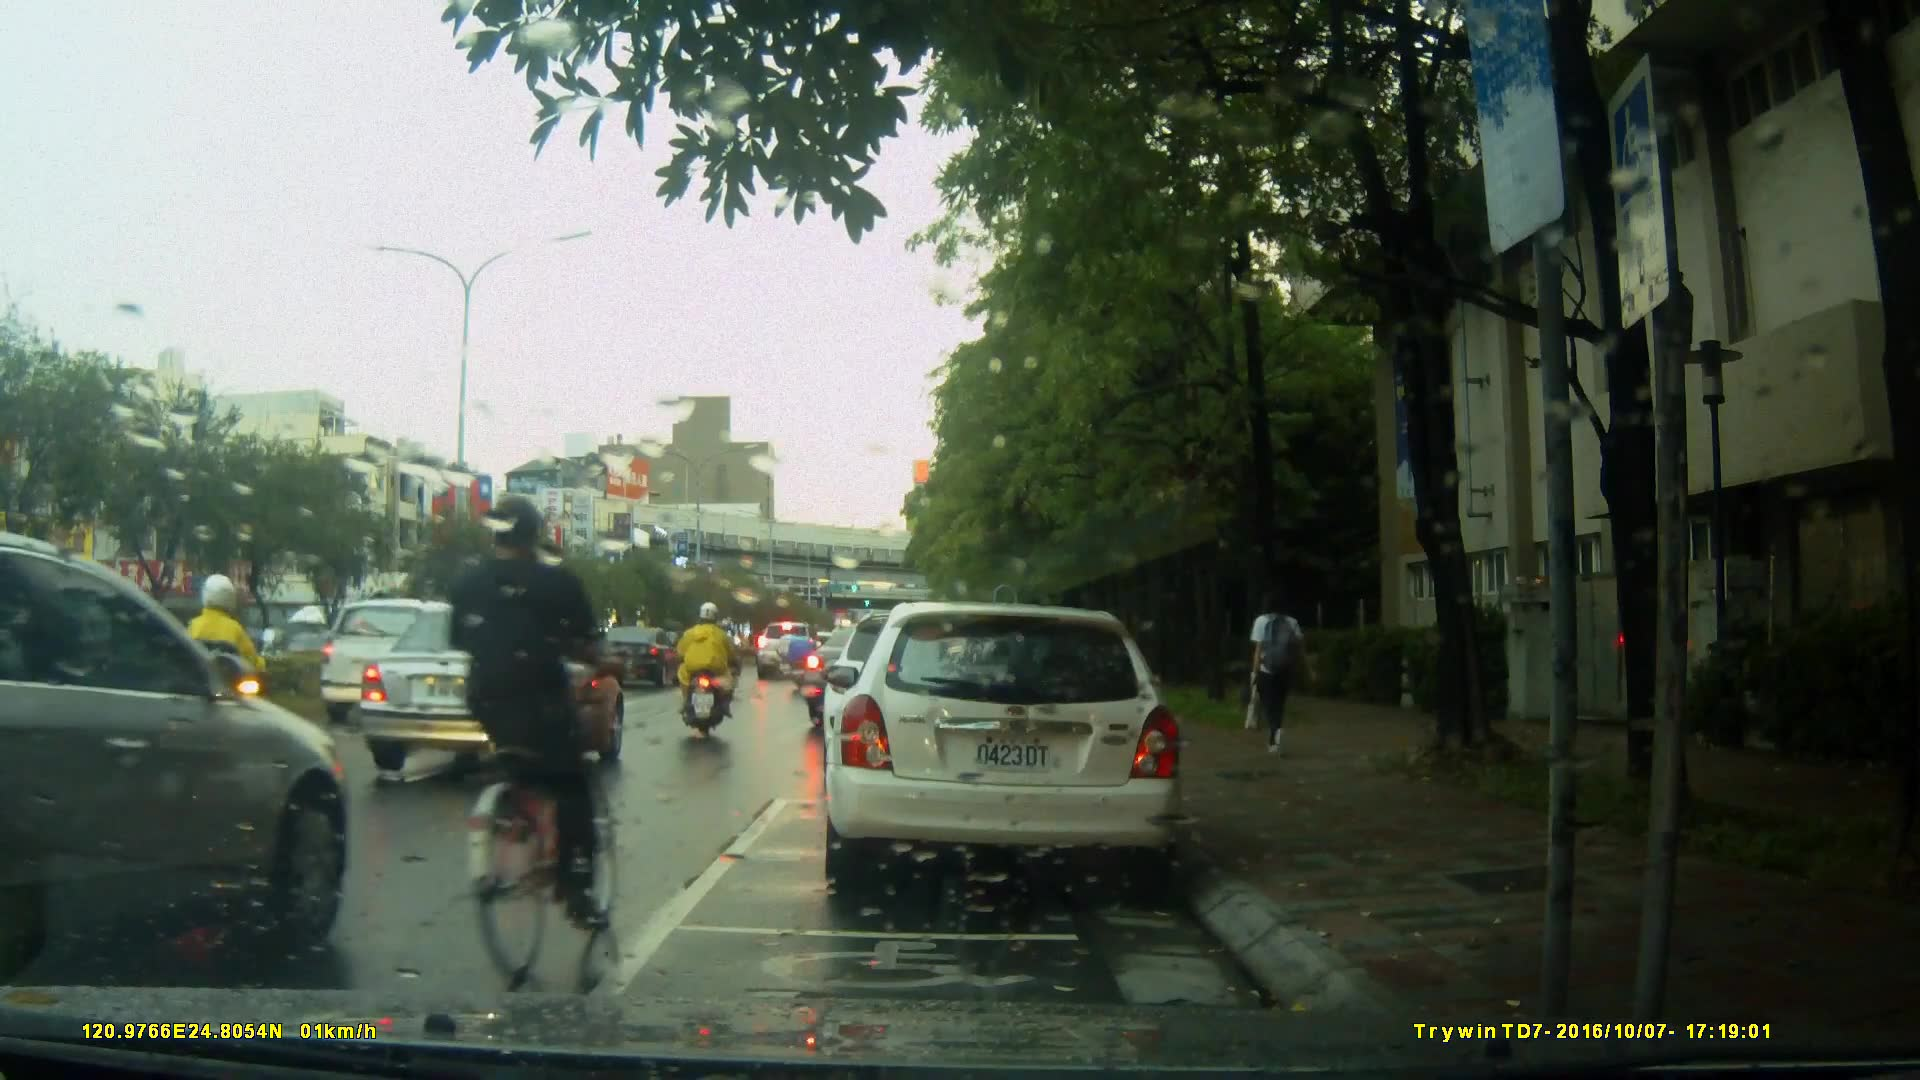pedestrian: (1247, 576, 1311, 761)
rider: (451, 498, 620, 976), (170, 578, 281, 805), (673, 596, 740, 746), (695, 615, 729, 704), (787, 620, 819, 702)
vehicle: (2, 528, 359, 987), (820, 602, 1188, 898), (359, 602, 640, 780), (318, 598, 516, 725), (586, 624, 688, 691)
